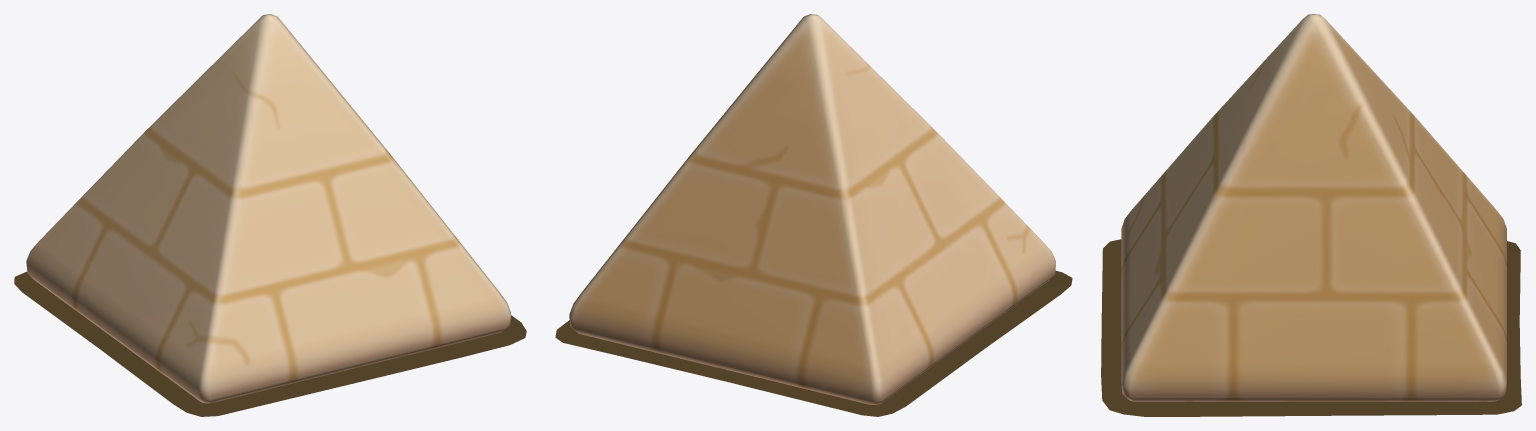
3 views of the same model, side by side, from view 1: azimuth 30°, elevation 25°; view 2: azimuth 150°, elevation 25°; view 3: azimuth 270°, elevation 25° (orthographic). The views are drawn at different scales.
Visible parts, largest first — view 1: pyramid_a, pyramid_shadow; view 2: pyramid_a, pyramid_shadow; view 3: pyramid_a, pyramid_shadow.
Part boxes in pixels (x1,y1,x2,y2): pyramid_a: (26,14,510,403); pyramid_shadow: (14,271,526,416); pyramid_a: (569,14,1055,404); pyramid_shadow: (555,270,1072,416); pyramid_a: (1121,14,1506,401); pyramid_shadow: (1101,239,1521,416).
Size of the model in its own units: 341 by 279 by 338.
